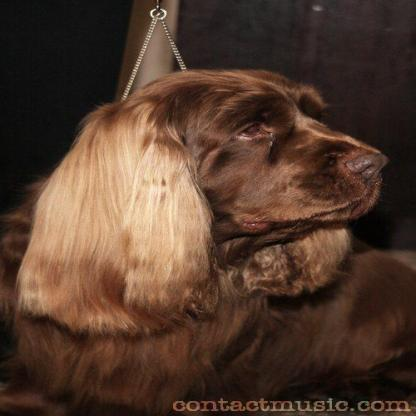Sussex_spaniel: (0, 66, 414, 414)
